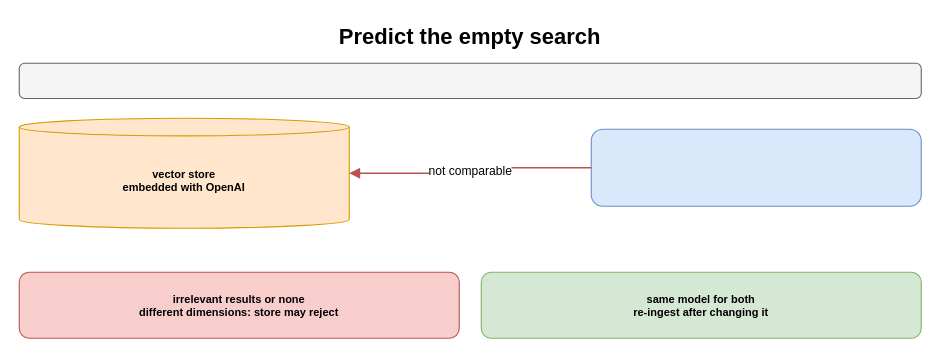
Some shapes in this 941 by 358 pixel diagram are drawn without their labels. The shapes that lost their labels are listed below. From the top down, each one's centre as x and y in pixels, then its label:
the point at 469,80: Stored and query vectors must come from the same model
the point at 755,167: query embedded with local Ollama model
